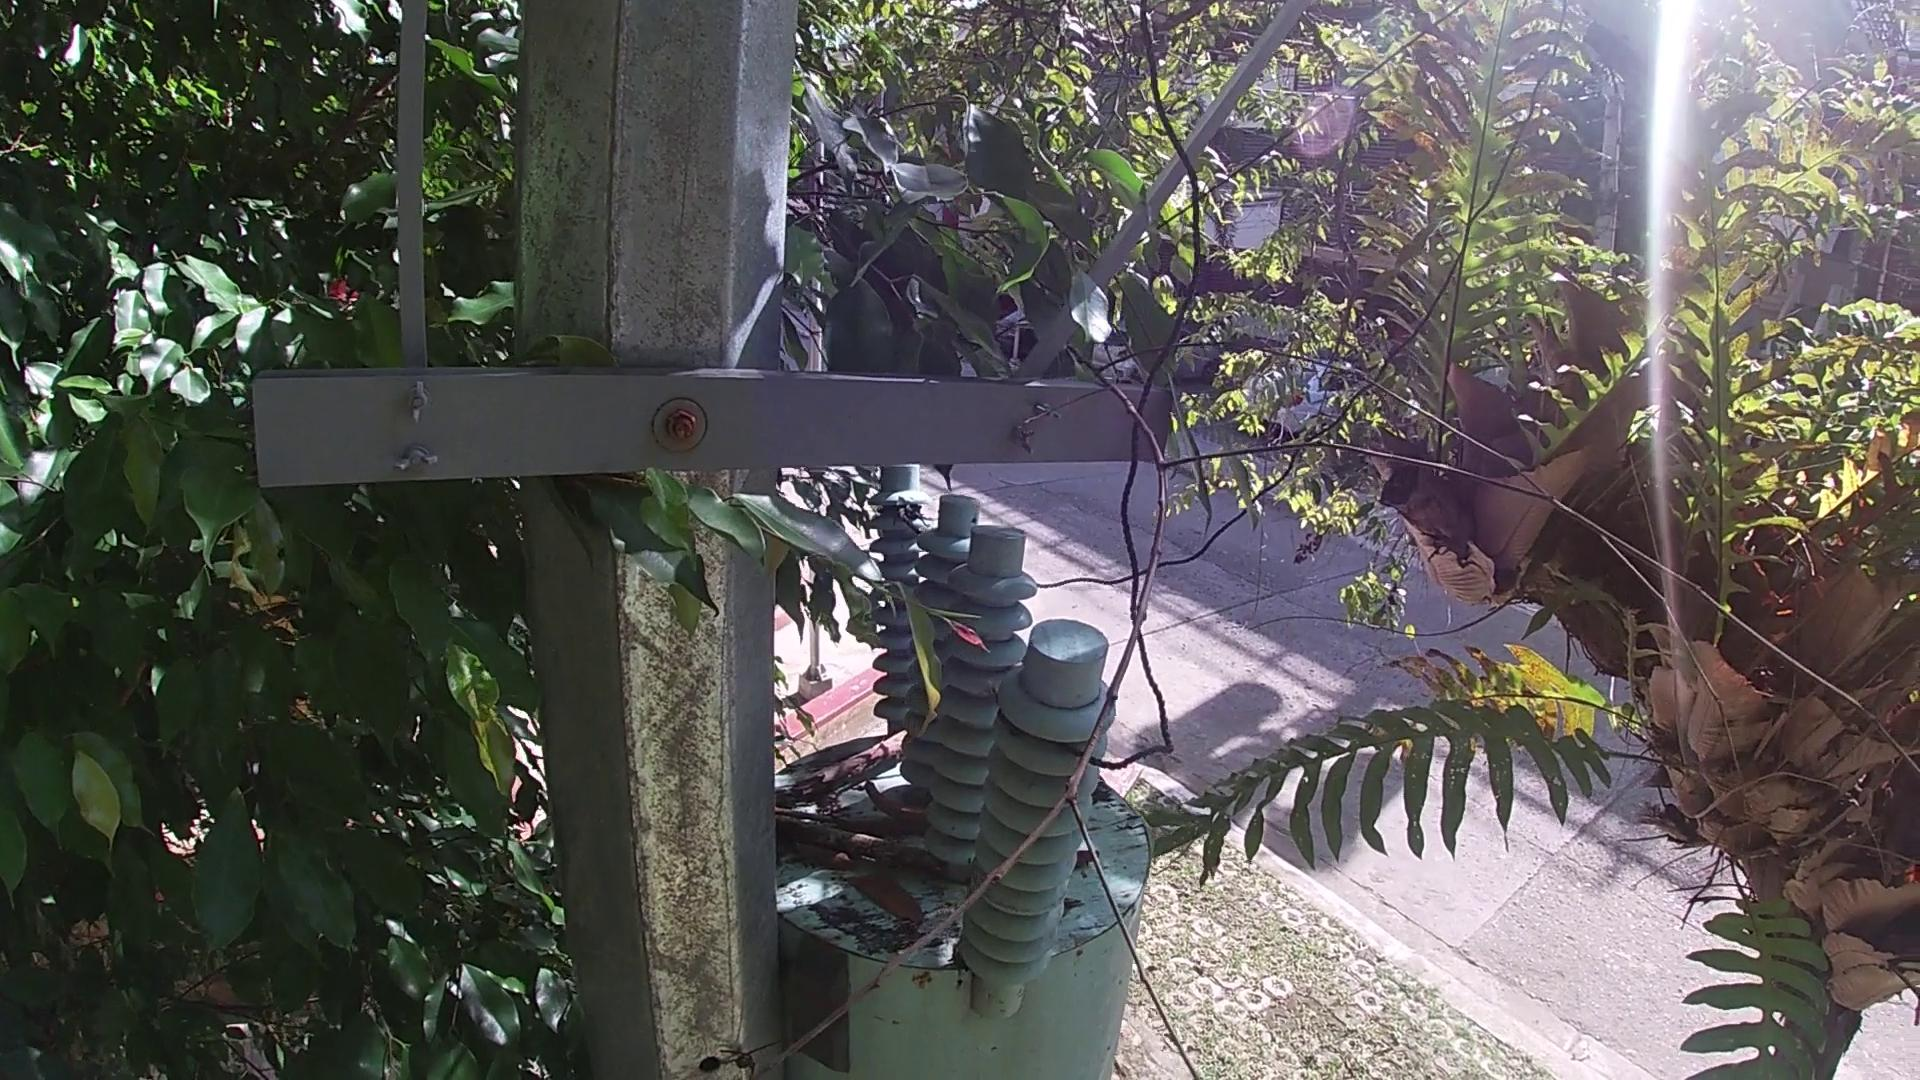leaf: (833, 872, 924, 934), (793, 841, 858, 876), (1071, 848, 1100, 869)
tree branch: (746, 332, 1920, 1073), (775, 810, 972, 887), (802, 725, 913, 802)
